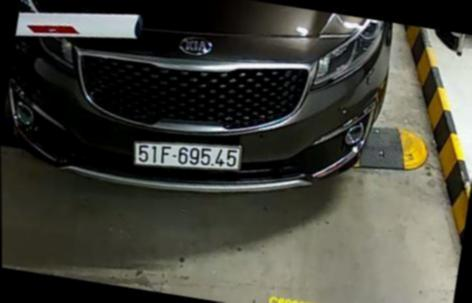License_Plate: (133, 137, 255, 179)
